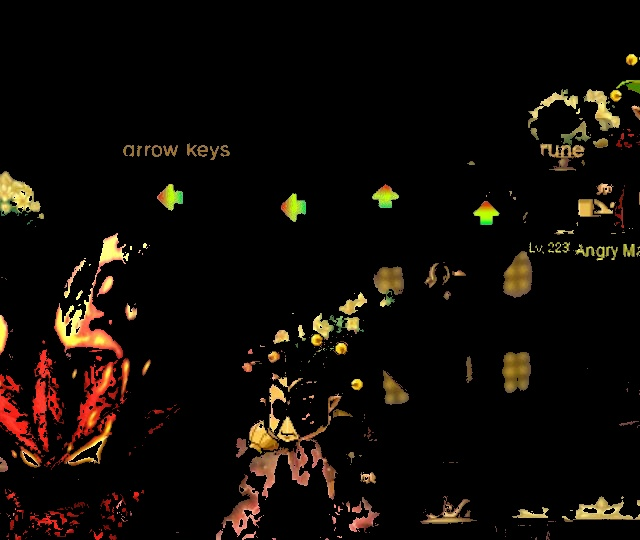left: (274, 186, 311, 231), (153, 179, 193, 218)
up: (468, 194, 506, 238), (367, 179, 401, 218)
